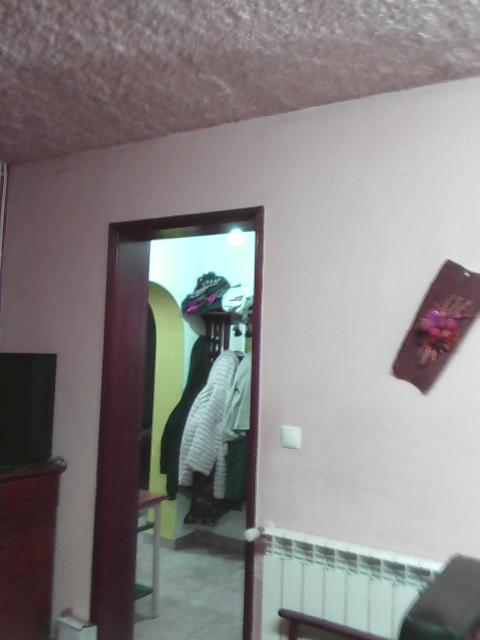open_door: (88, 203, 265, 639)
